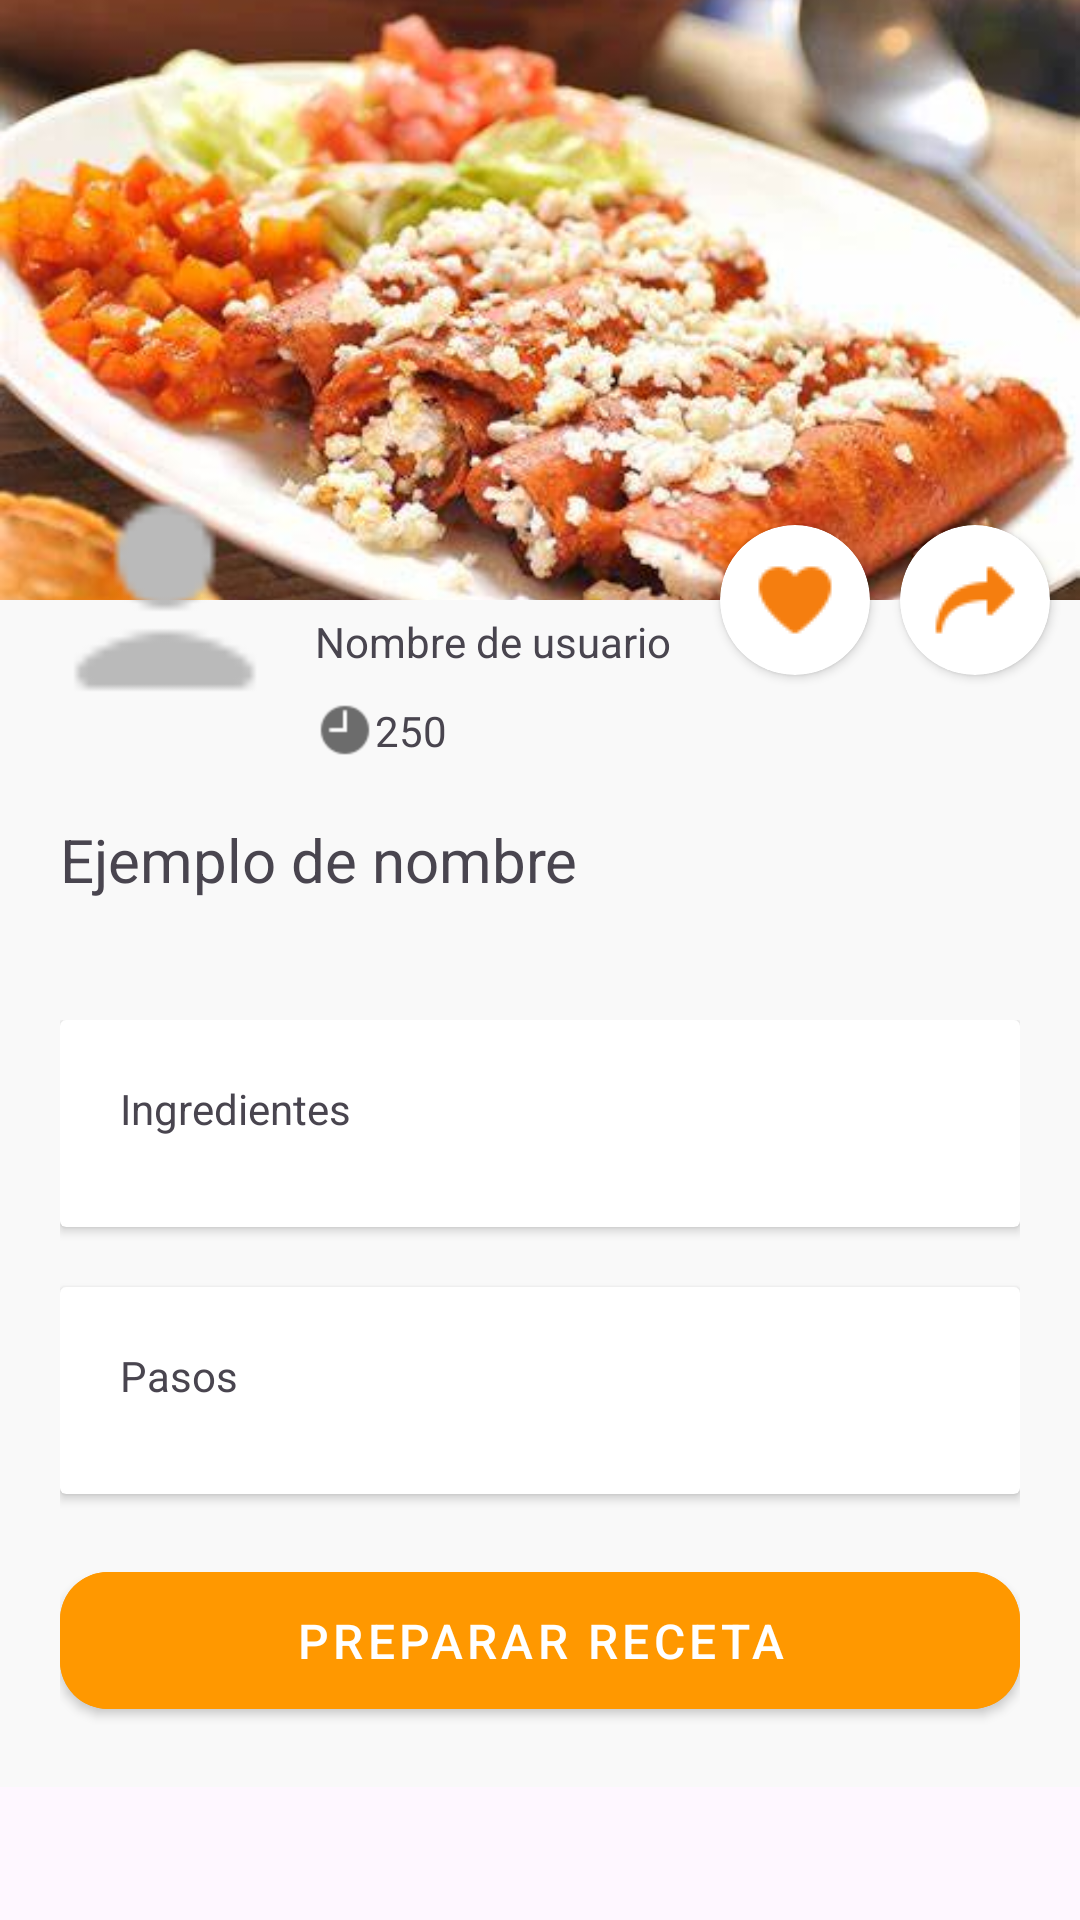

Where icons sit on this 1080w x 1920h app screen, as box(x1, y1, x2, y2):
clock: box(320, 705, 370, 755)
likes: box(758, 566, 832, 634)
person: box(45, 480, 285, 689)
share: box(935, 566, 1015, 634)
